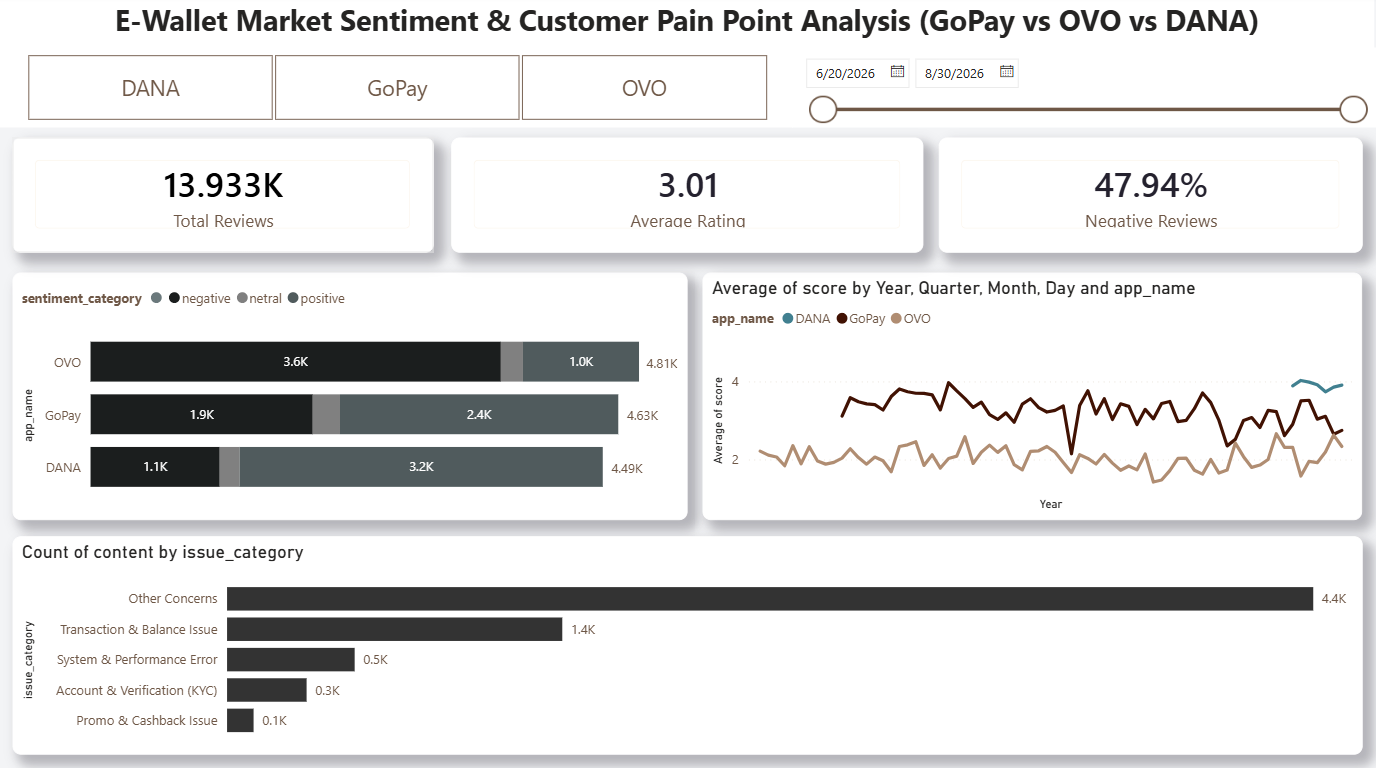

This screenshot's page, from the dashboard's own definition file:
{"tool":"powerbi","page":{"name":"Page 1","canvas":[1280,720],"ordinal":0},"visuals":[{"type":"textbox","box":[0,0,1278.3,61.3],"z":0},{"type":"slicer","fields":{"Values":["reviews_clean.app_name"]},"box":[0,48.8,737.2,74.4],"z":1000},{"type":"slicer","fields":{"Values":["reviews_clean.review_date"]},"box":[737.2,48.8,543,74.4],"z":2000},{"type":"barChart","title":"Sentiment Distribution per E-Wallet","fields":{"Category":["reviews_clean.app_name"],"Y":["CountNonNull(reviews_clean.content)"],"Series":["reviews_clean.sentiment_category"]},"box":[11.6,258.1,627.9,230.2],"z":3000},{"type":"lineChart","title":"Daily Rating Performance Trend","fields":{"Series":["reviews_clean.app_name"],"Category":["reviews_clean.review_date.Variation.Date Hierarchy.Year","reviews_clean.review_date.Variation.Date Hierarchy.Quarter","reviews_clean.review_date.Variation.Date Hierarchy.Month","reviews_clean.review_date.Variation.Date Hierarchy.Day"],"Y":["Avg(reviews_clean.score)"]},"box":[653.5,258.1,614,230.2],"z":4000},{"type":"cardVisual","fields":{"Data":["CountNonNull(reviews_clean.content)"]},"box":[11.6,132.6,391.9,107],"z":5000},{"type":"cardVisual","fields":{"Data":["Avg(reviews_clean.score)"]},"box":[419.8,132.6,439.5,107],"z":6000},{"type":"cardVisual","fields":{"Data":["reviews_clean.% Negative Reviews"]},"box":[873.3,132.6,394.2,107],"z":7000},{"type":"clusteredBarChart","title":"Top Customer Pain Points Breakdown","fields":{"Category":["app_issues_breakdownn.issue_category"],"Y":["CountNonNull(app_issues_breakdownn.content)"]},"box":[11.6,503.5,1255.8,203.5],"z":8000}]}

Visuals, with their boxes in screenshot pixels (x1, y1, x2, y2), scaled from the page's 1280x720 canvas onto the 1376x768 screenshot:
textbox: pyautogui.locateOnScreen(0, 0, 1374, 65)
slicer - reviews_clean.app_name: pyautogui.locateOnScreen(0, 52, 792, 131)
slicer - reviews_clean.review_date: pyautogui.locateOnScreen(792, 52, 1375, 131)
"Sentiment Distribution per E-Wallet" barChart: pyautogui.locateOnScreen(12, 275, 687, 521)
"Daily Rating Performance Trend" lineChart: pyautogui.locateOnScreen(703, 275, 1363, 521)
cardVisual - CountNonNull(reviews_clean.content): pyautogui.locateOnScreen(12, 141, 434, 256)
cardVisual - Avg(reviews_clean.score): pyautogui.locateOnScreen(451, 141, 924, 256)
cardVisual - reviews_clean.% Negative Reviews: pyautogui.locateOnScreen(939, 141, 1363, 256)
"Top Customer Pain Points Breakdown" clusteredBarChart: pyautogui.locateOnScreen(12, 537, 1362, 754)
